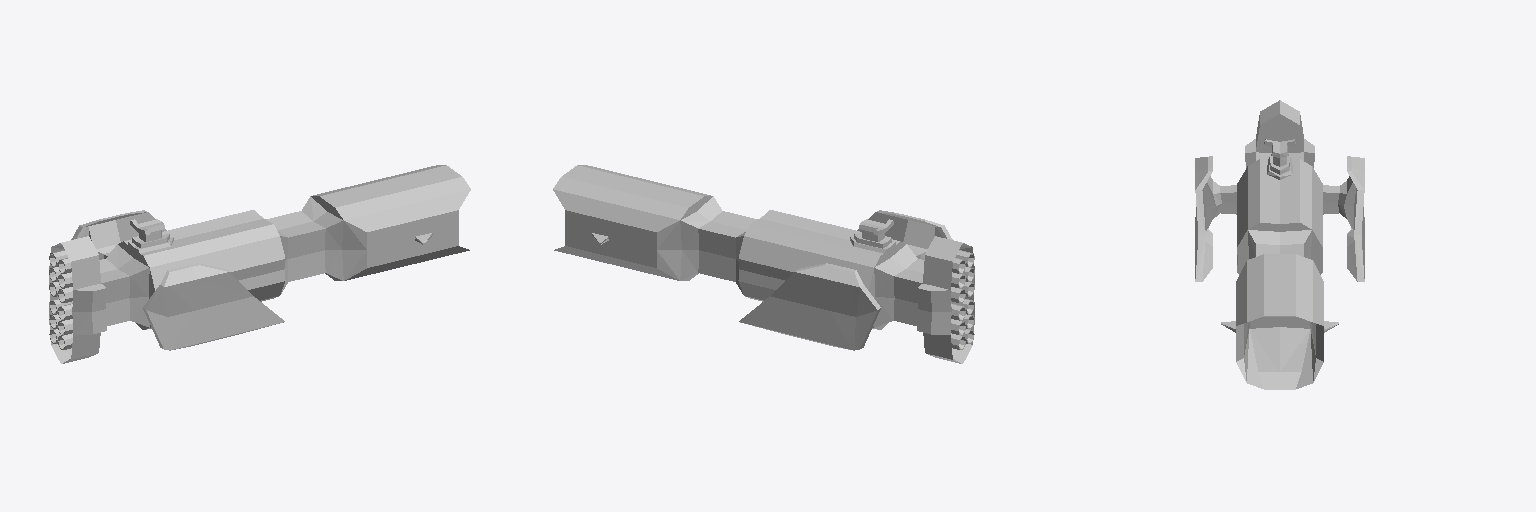
Rendered from affiliate.obj.
3 renders of one model, left to right at view 1: azimuth 30°, elevation 25°; view 2: azimuth 150°, elevation 25°; view 3: azimuth 270°, elevation 25°, orthographic.
Visible parts, largest first — view 1: main_ship; view 2: main_ship; view 3: main_ship.
Part boxes in pixels (left/top/right/bottom): main_ship: left=49, top=165, right=470, bottom=363; main_ship: left=553, top=165, right=974, bottom=363; main_ship: left=1195, top=100, right=1364, bottom=389.
Bounding box in the file's own units: 3.82 × 1.12 × 1.41.